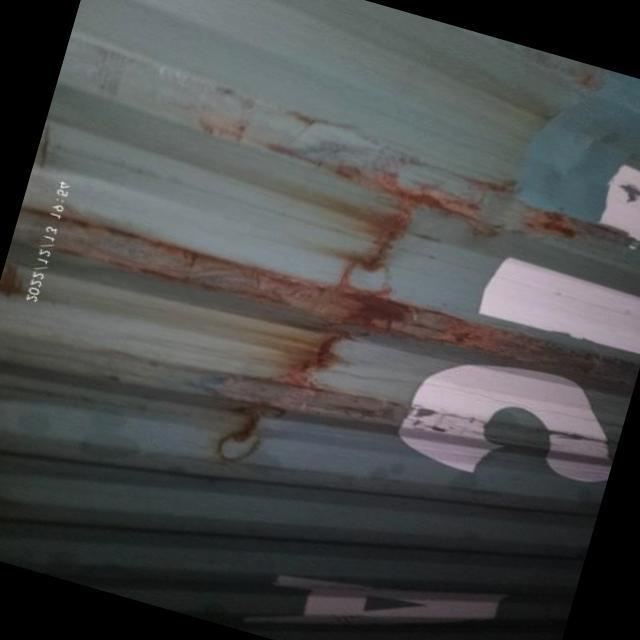rust: (245, 119, 634, 245), (234, 261, 480, 374)
